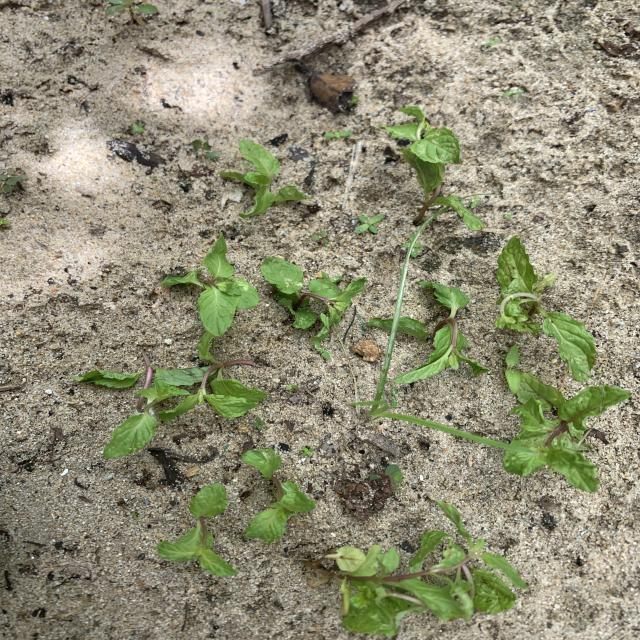crop: (336, 502, 527, 637), (503, 374, 630, 491), (496, 236, 595, 382), (75, 354, 205, 458), (384, 105, 483, 231), (260, 258, 366, 357), (162, 233, 258, 337), (159, 332, 267, 421), (396, 281, 487, 382), (157, 483, 236, 576), (220, 140, 311, 218), (242, 448, 315, 542)
weed: (355, 230, 509, 449), (104, 0, 159, 23), (505, 345, 522, 394), (367, 464, 403, 485), (1, 170, 27, 191), (356, 214, 383, 234), (192, 140, 219, 159), (311, 229, 328, 248), (325, 128, 351, 139), (504, 87, 524, 98), (253, 417, 265, 429), (301, 446, 313, 457), (284, 384, 298, 391)
